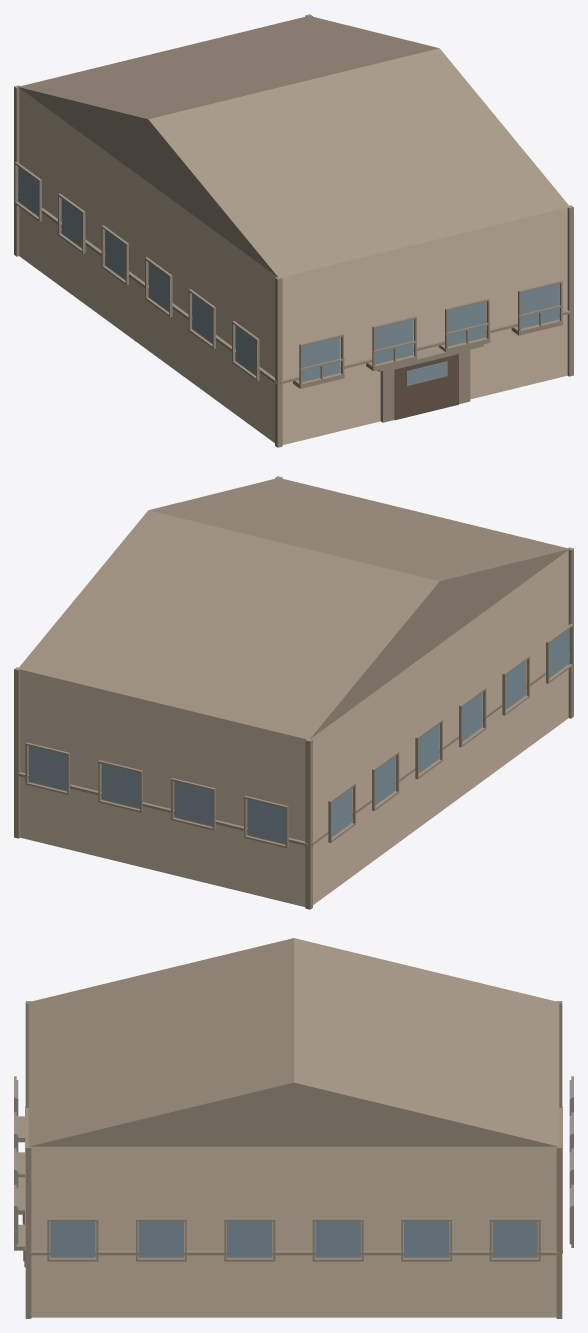
The model's file is lot_2x3_gable.glb.
3 views of the same model, one above another, from view 1: azimuth 30°, elevation 25°; view 2: azimuth 150°, elevation 25°; view 3: azimuth 270°, elevation 25° (orthographic).
Visible parts, largest first — view 1: lot_2x3_gable; view 2: lot_2x3_gable; view 3: lot_2x3_gable.
Boxes of the visible parts, x1,y1,x2,y2 form: lot_2x3_gable: [14, 14, 573, 447]; lot_2x3_gable: [14, 476, 573, 909]; lot_2x3_gable: [14, 938, 573, 1318].
Bounding box in the file's own units: 15.74 × 11 × 23.74.
